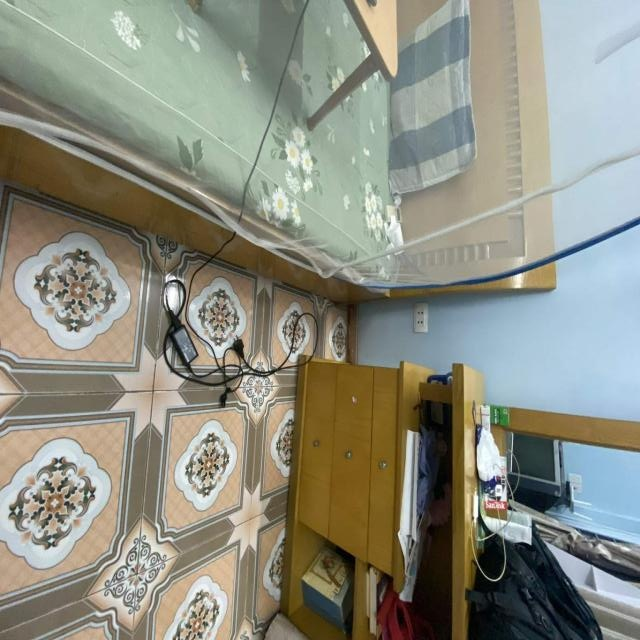outlet: (413, 303, 429, 333)
